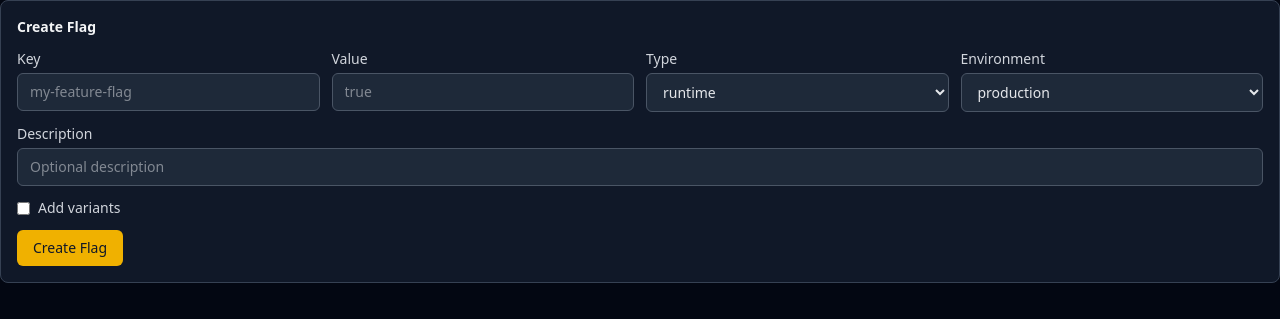
it: CreateFlagForm › shows validation error for empty value on submit
Type "valid-key" into the field labelled "Key" at [168, 92], box [17,73,320,111]
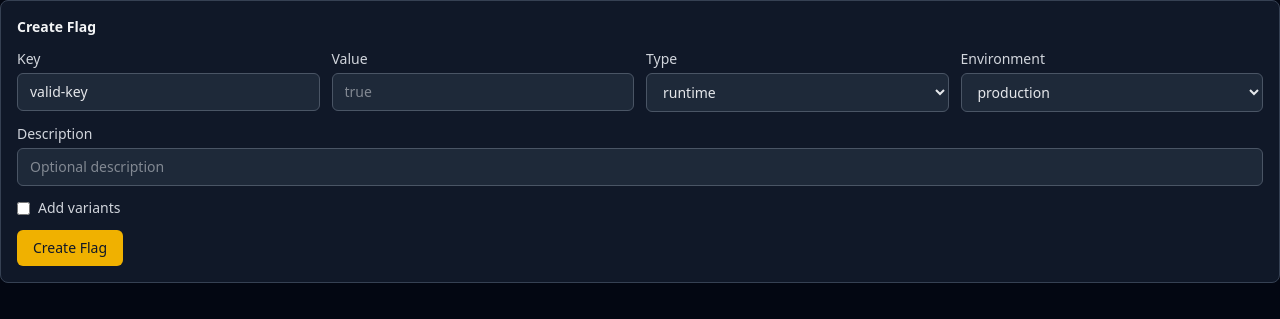
Click the button "Create Flag" at [70, 248], box [17,230,123,266]
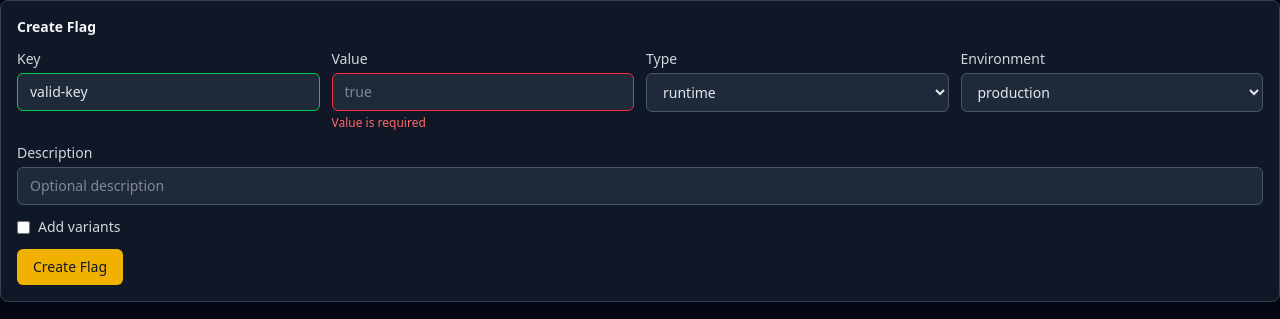
Check: the list item "Value is required" is shown, box [332,114,426,131]
